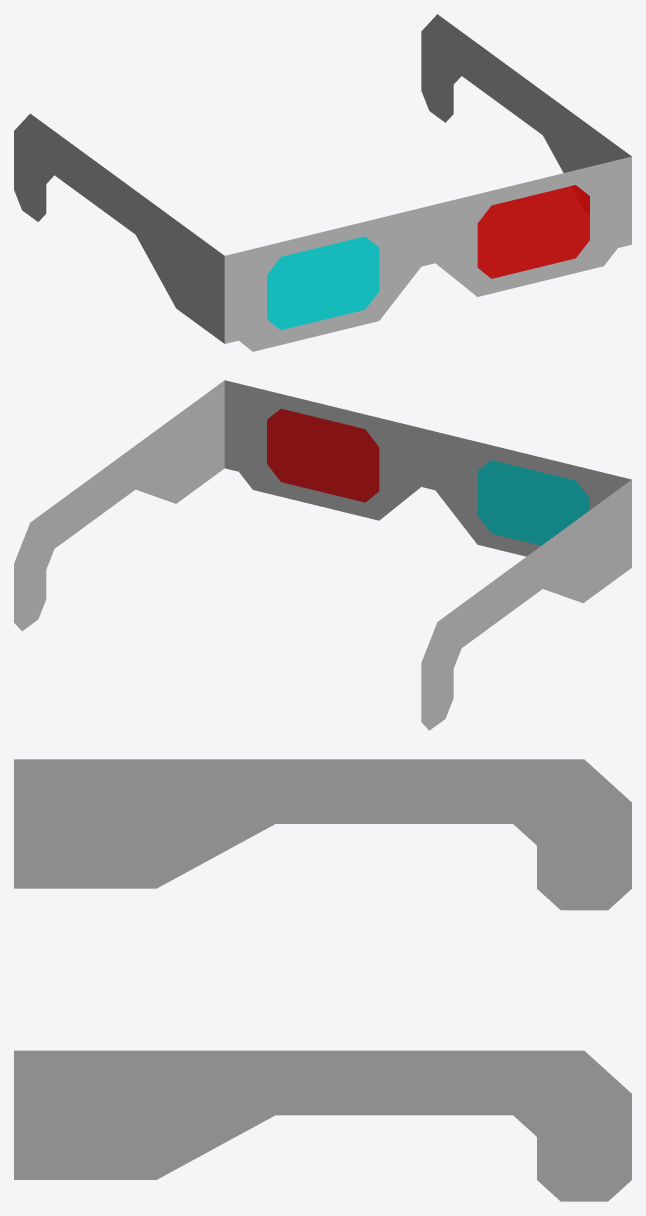
Rendered from glass.glb.
3 views of the same model, one above another, from view 1: azimuth 30°, elevation 25°; view 2: azimuth 150°, elevation 25°; view 3: azimuth 270°, elevation 25° (orthographic). The views are drawn at different scales.
Parts seen in each view (by area): view 1: root; view 2: root; view 3: root.
Boxes of the visible parts, x1,y1,x2,y2 form: root: (14,14,631,351); root: (14,380,631,730); root: (14,759,631,1201).
Bounding box in the file's own units: 0.145 × 0.035 × 0.13.
